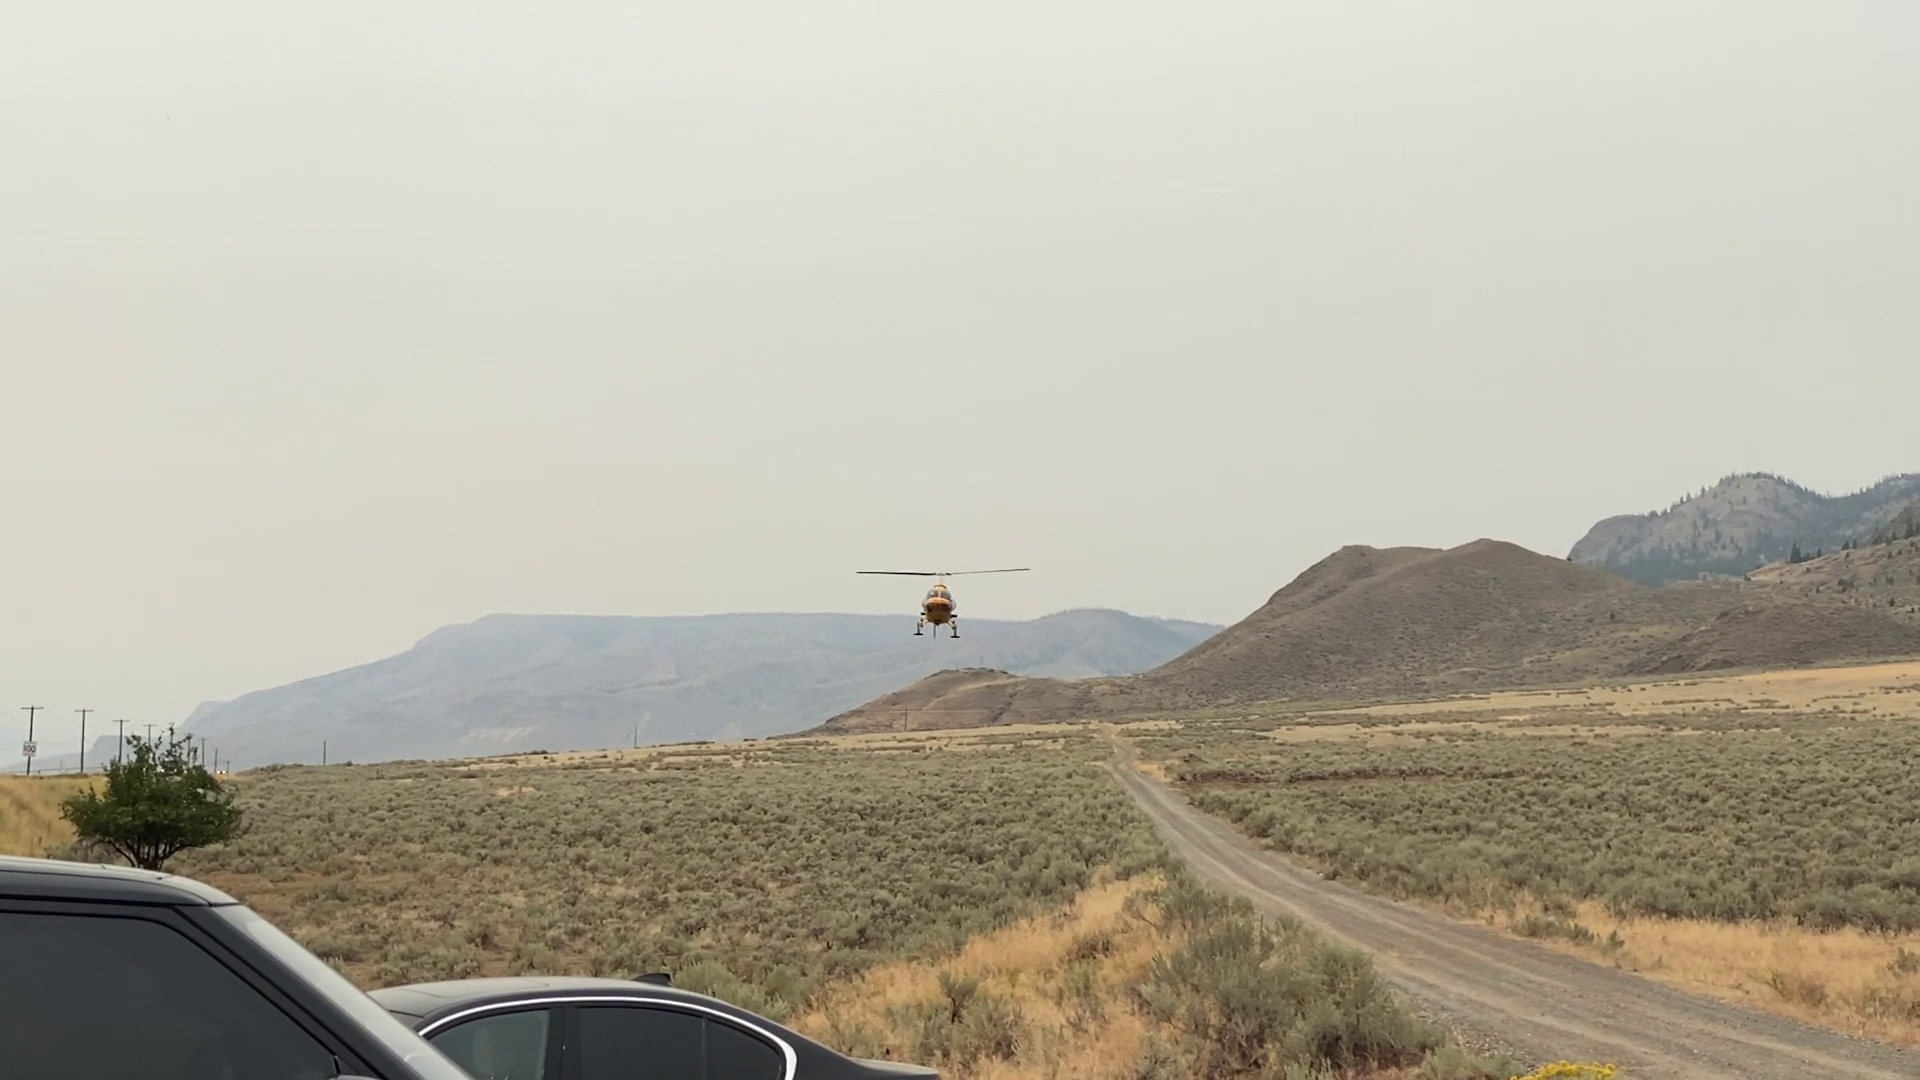heli: (858, 564, 1033, 638)
